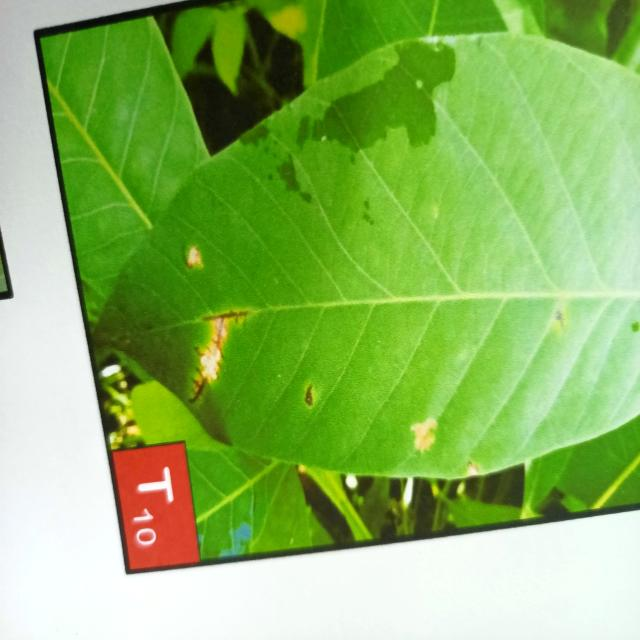Corynespora: (188, 366, 208, 404), (204, 310, 248, 325)
Leaf-Blight: (199, 319, 228, 381)
